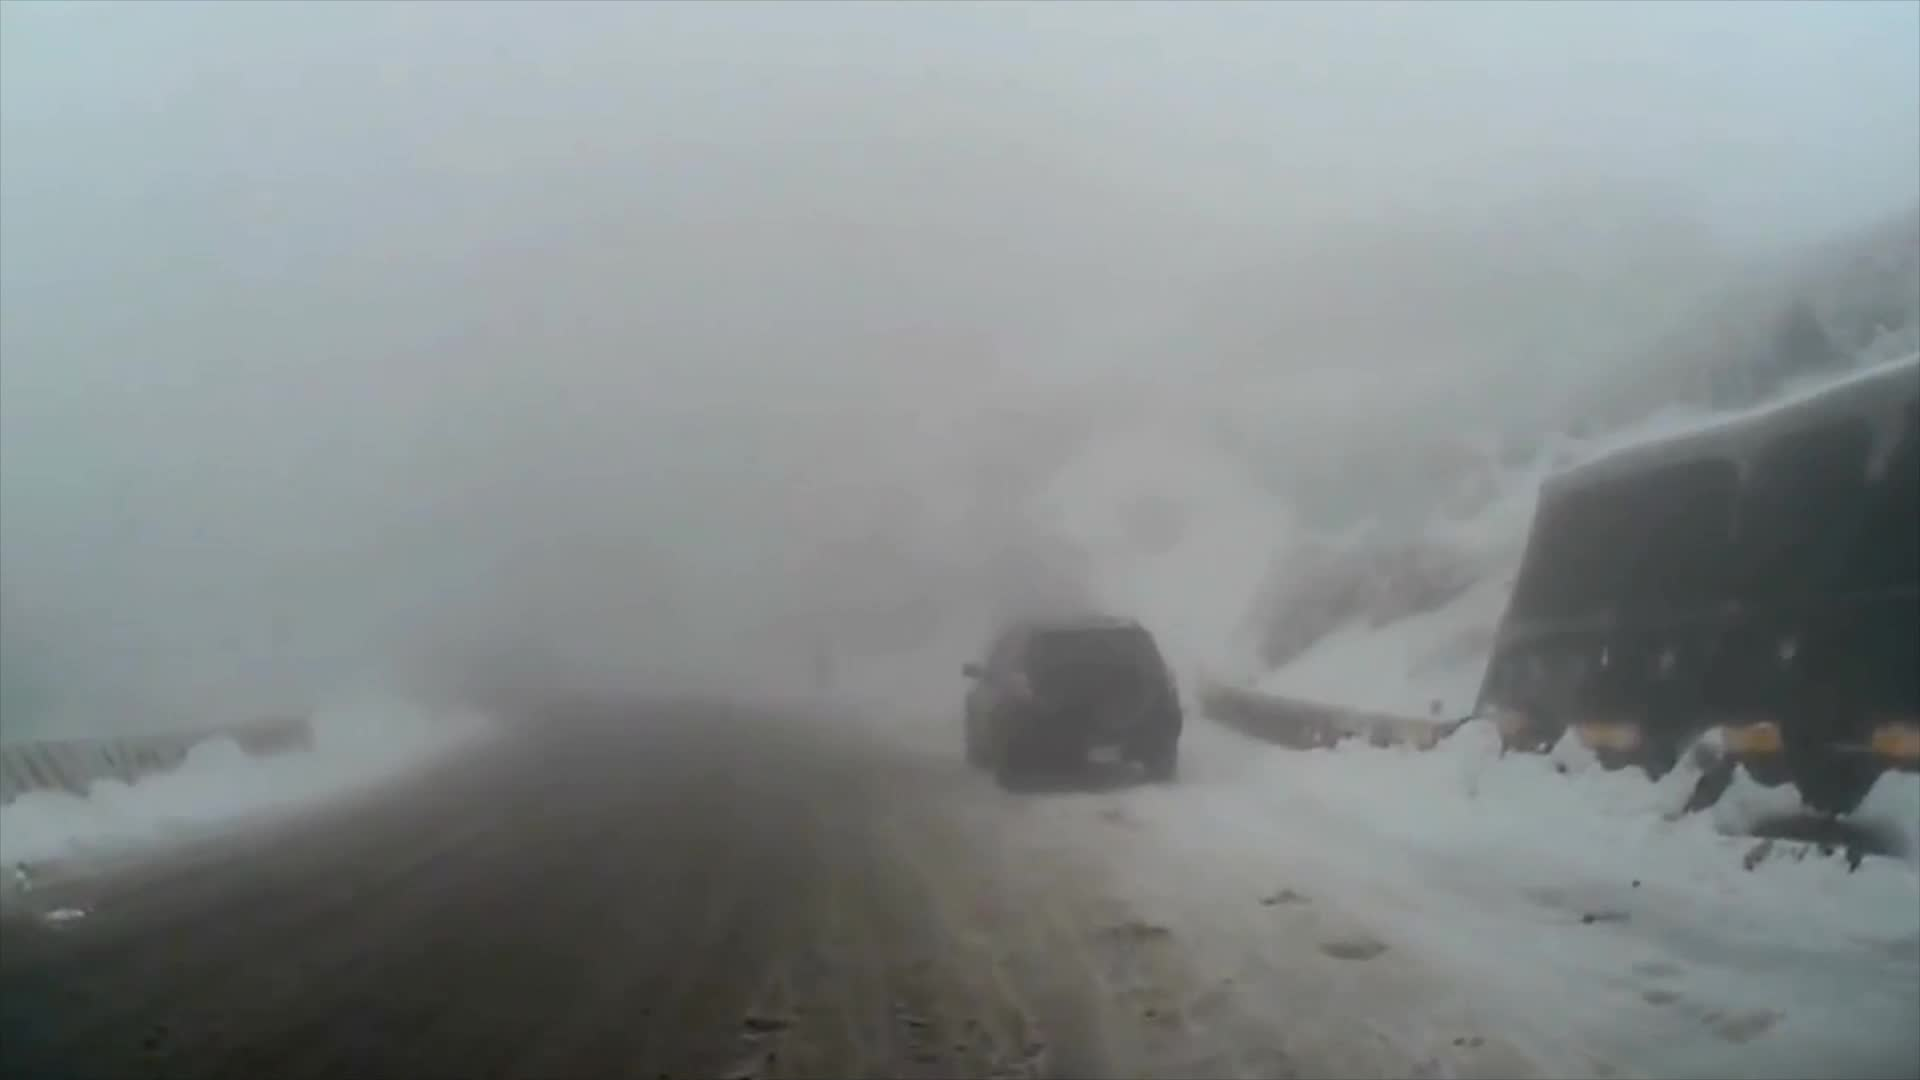vehicle: (959, 608, 1182, 789)
